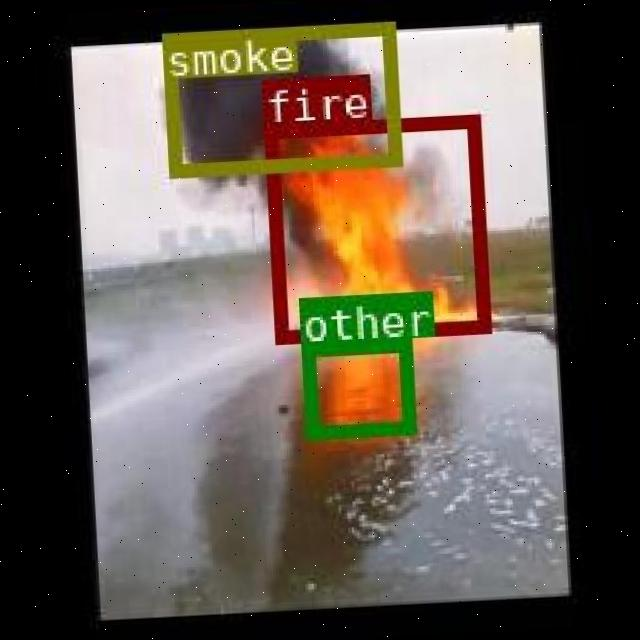fire: (262, 114, 488, 340)
smoke: (161, 22, 399, 176)
